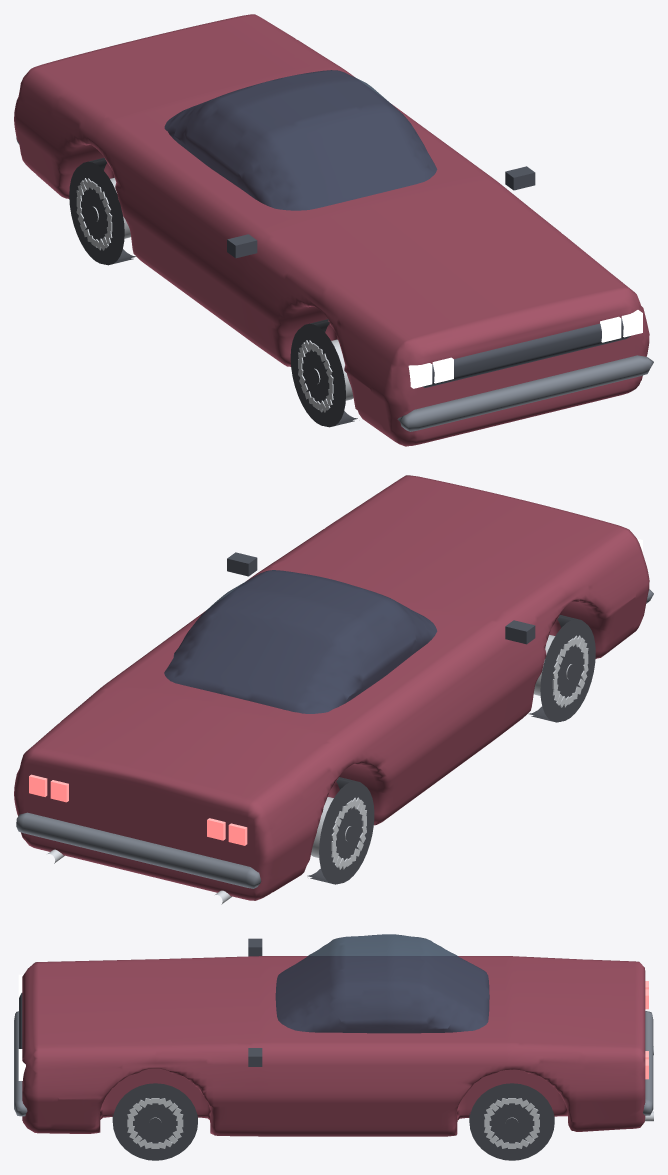
The model's file is continental.glb.
3 renders of one model, top to bottom at view 1: azimuth 30°, elevation 25°; view 2: azimuth 150°, elevation 25°; view 3: azimuth 270°, elevation 25°, orthographic. The views are drawn at different scales.
Parts seen in each view (by area): view 1: Bodywork, CanopyGlass, TireRubber, ChromeTrim, CarbonAero (×2), ForgedRim, HeadlightLED; view 2: Bodywork, CanopyGlass, TireRubber, ChromeTrim, ForgedRim, TaillightLED, CarbonAero; view 3: Bodywork, CanopyGlass, TireRubber, ForgedRim, ChromeTrim, CarbonAero.
Part boxes in pixels (left/top/right/bottom): Bodywork: left=14, top=14, right=649, bottom=446; CanopyGlass: left=164, top=70, right=437, bottom=210; TireRubber: left=69, top=158, right=357, bottom=427; ChromeTrim: left=16, top=137, right=653, bottom=431; CarbonAero (×2): left=227, top=166, right=630, bottom=387; ForgedRim: left=76, top=177, right=353, bottom=412; HeadlightLED: left=408, top=310, right=642, bottom=388; Bodywork: left=14, top=475, right=649, bottom=900; CanopyGlass: left=164, top=570, right=437, bottom=713; TireRubber: left=307, top=615, right=595, bottom=884; ChromeTrim: left=16, top=589, right=653, bottom=888; ForgedRim: left=311, top=635, right=588, bottom=869; TaillightLED: left=29, top=774, right=247, bottom=845; CarbonAero: left=227, top=552, right=535, bottom=644; Bodywork: left=22, top=956, right=645, bottom=1136; CanopyGlass: left=275, top=934, right=489, bottom=1033; TireRubber: left=112, top=1083, right=554, bottom=1160; ForgedRim: left=127, top=1098, right=539, bottom=1148; ChromeTrim: left=14, top=1011, right=653, bottom=1116; CarbonAero: left=248, top=938, right=262, bottom=1066.
Bounding box in the file's own units: 2.22 × 1.4 × 5.1.
